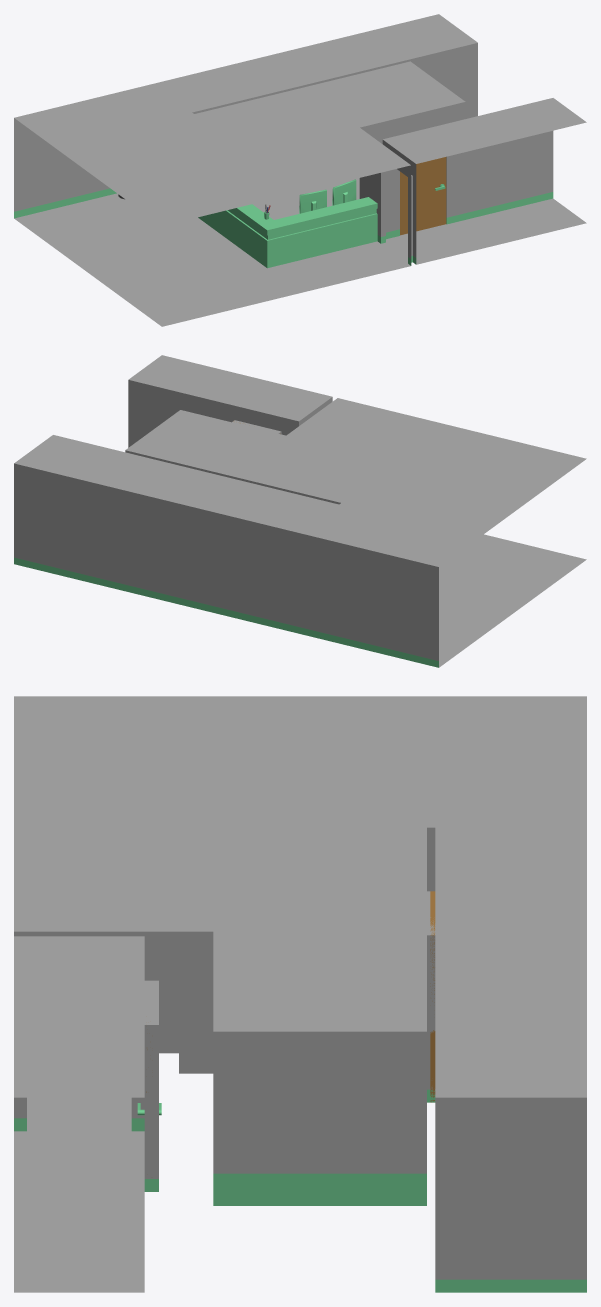
File: Accueil.fbx
3 renders of one model, top to bottom at view 1: azimuth 30°, elevation 25°; view 2: azimuth 150°, elevation 25°; view 3: azimuth 270°, elevation 25°, orthographic. The views are drawn at different scales.
Visible parts, largest first — view 1: Accueil, Porte, Ecran2, Ecran1; view 2: Accueil; view 3: Accueil.
Part boxes in pixels (x1,y1,x2,y2): Accueil: [14, 14, 586, 326]; Porte: [400, 157, 446, 235]; Ecran2: [299, 189, 326, 213]; Ecran1: [332, 179, 356, 205]; Accueil: [14, 355, 586, 667]; Accueil: [14, 696, 586, 1292].
Bounding box in the file's own units: 185 × 112 × 41.92.
